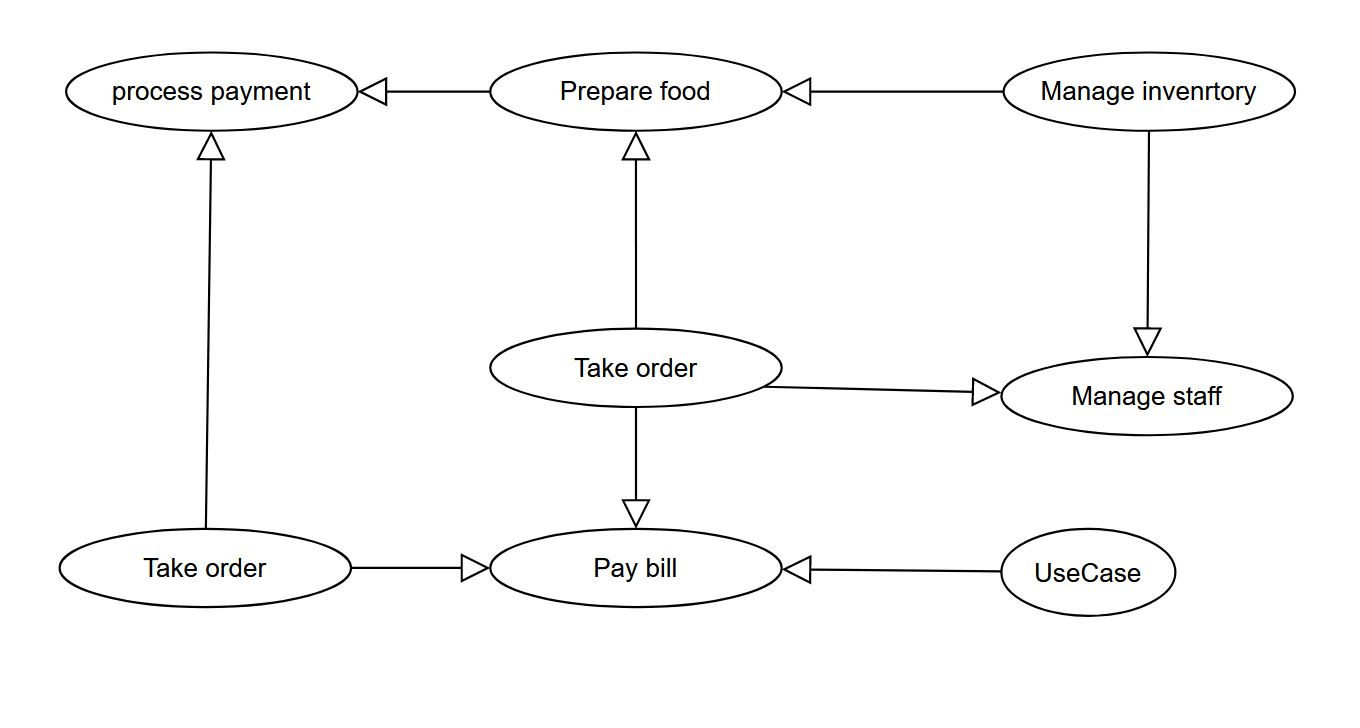generalization: (195, 129, 226, 526), (782, 552, 1002, 587), (1129, 130, 1163, 354), (780, 75, 1004, 107), (767, 377, 1001, 406), (618, 131, 651, 328), (360, 75, 491, 110), (349, 554, 489, 585), (622, 407, 651, 529)
text: (1036, 75, 1262, 110), (138, 547, 272, 587), (108, 81, 312, 107), (1071, 381, 1228, 413), (572, 347, 698, 385), (548, 77, 715, 104), (1032, 556, 1143, 592), (593, 552, 682, 588)
use_case: (57, 527, 353, 609), (1003, 52, 1297, 132), (64, 52, 361, 131), (491, 327, 783, 406), (488, 529, 783, 607), (491, 52, 782, 131), (1002, 356, 1293, 434), (1002, 528, 1175, 617)
